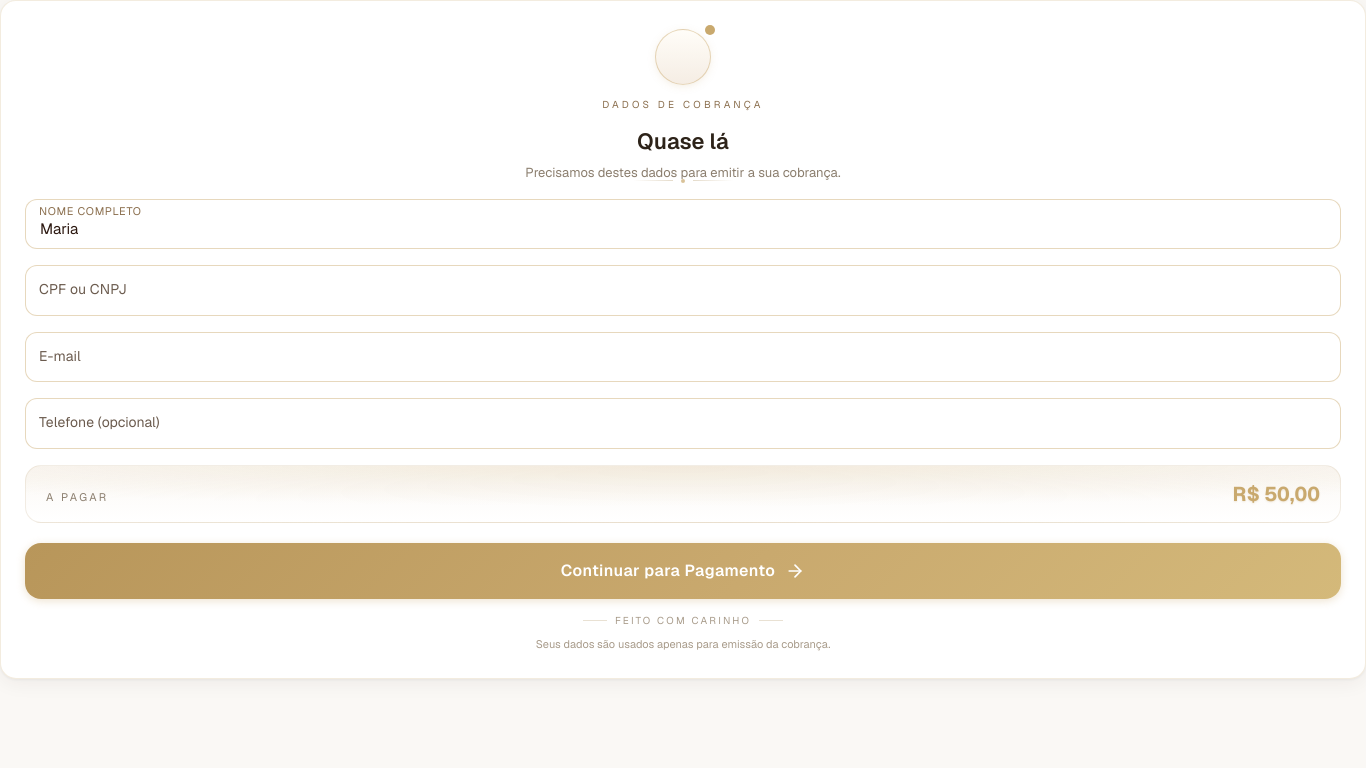
it: PublicBillingForm › shows validation errors for invalid CPF on submit
Type "11111111111" into the field labelled "CPF ou CNPJ" at coordinates (683, 290), box [25,265,1341,316]
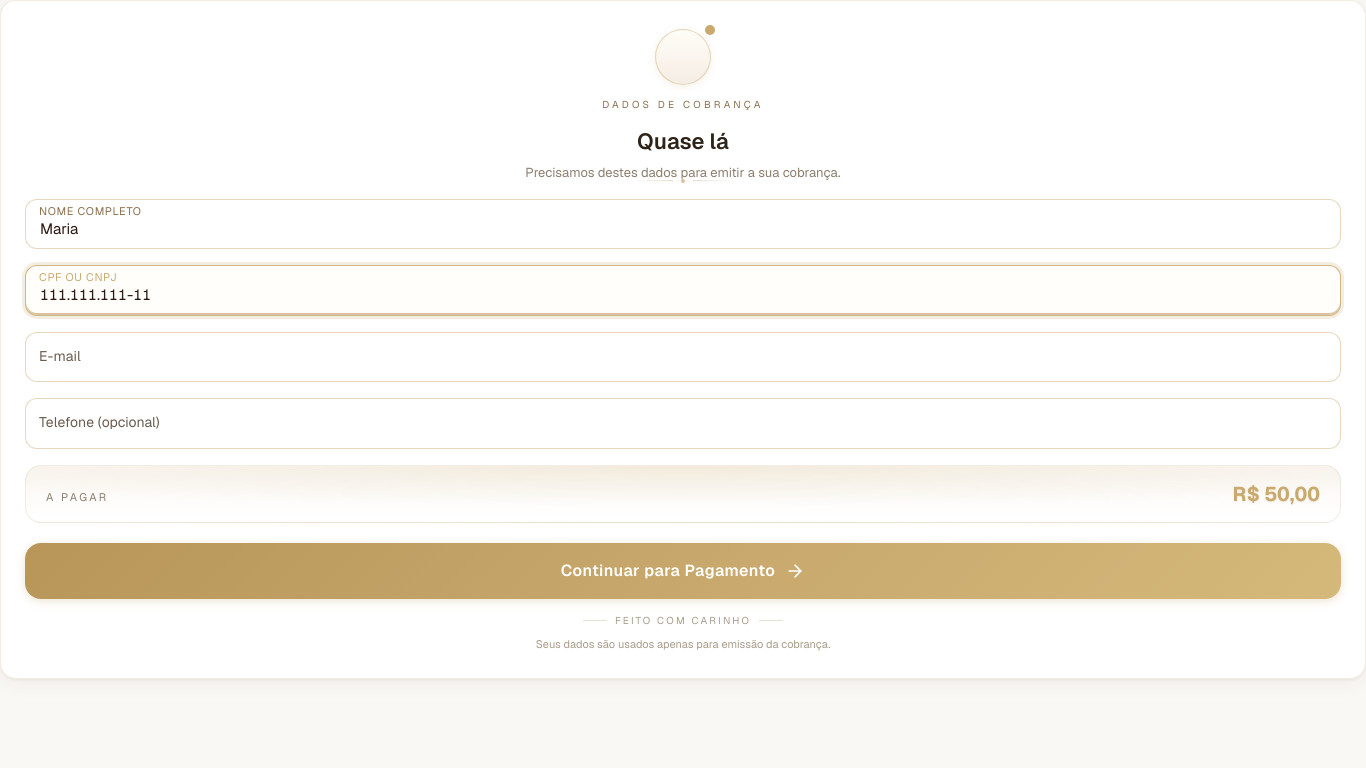
Type "maria@example.com" into the field labelled "E-mail" at coordinates (683, 357), box [25,332,1341,382]
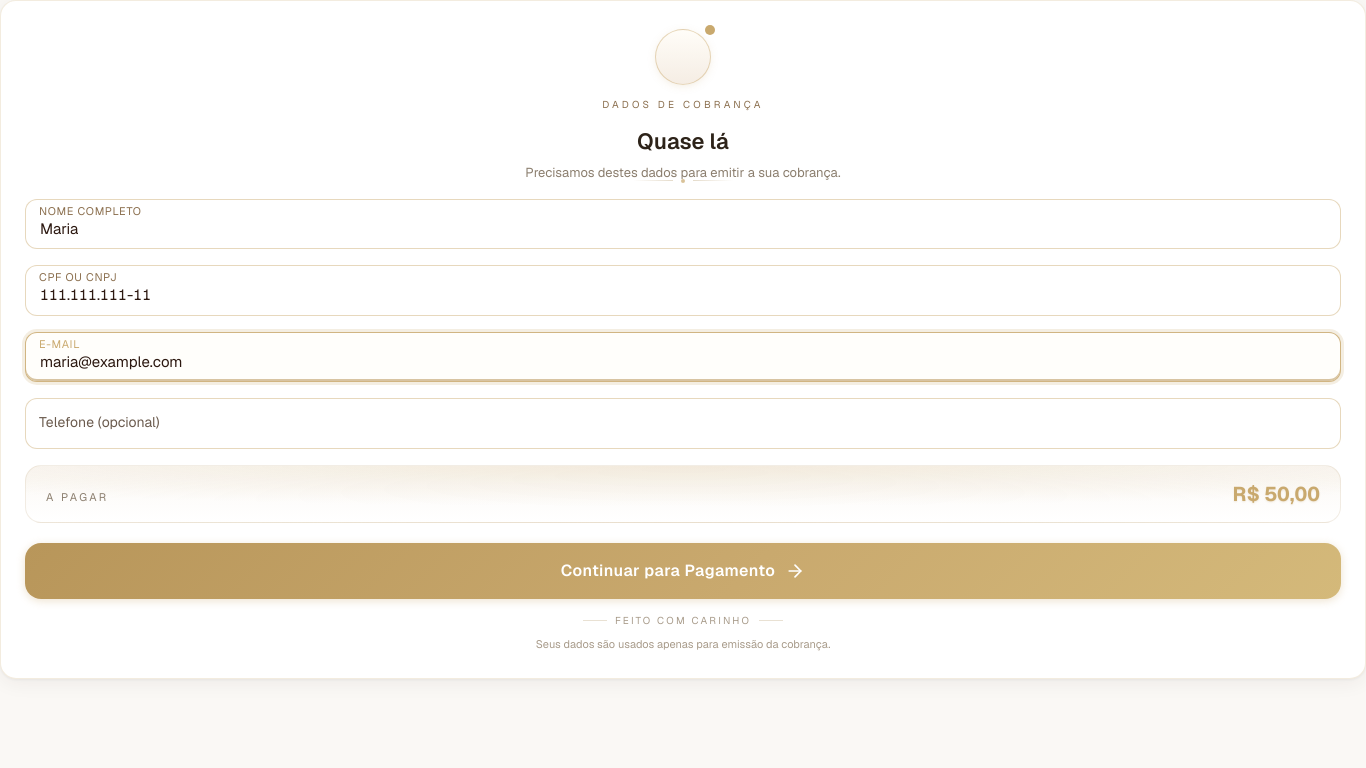
Click the button "Continuar para Pagamento" at coordinates (683, 571), box [25,543,1341,599]
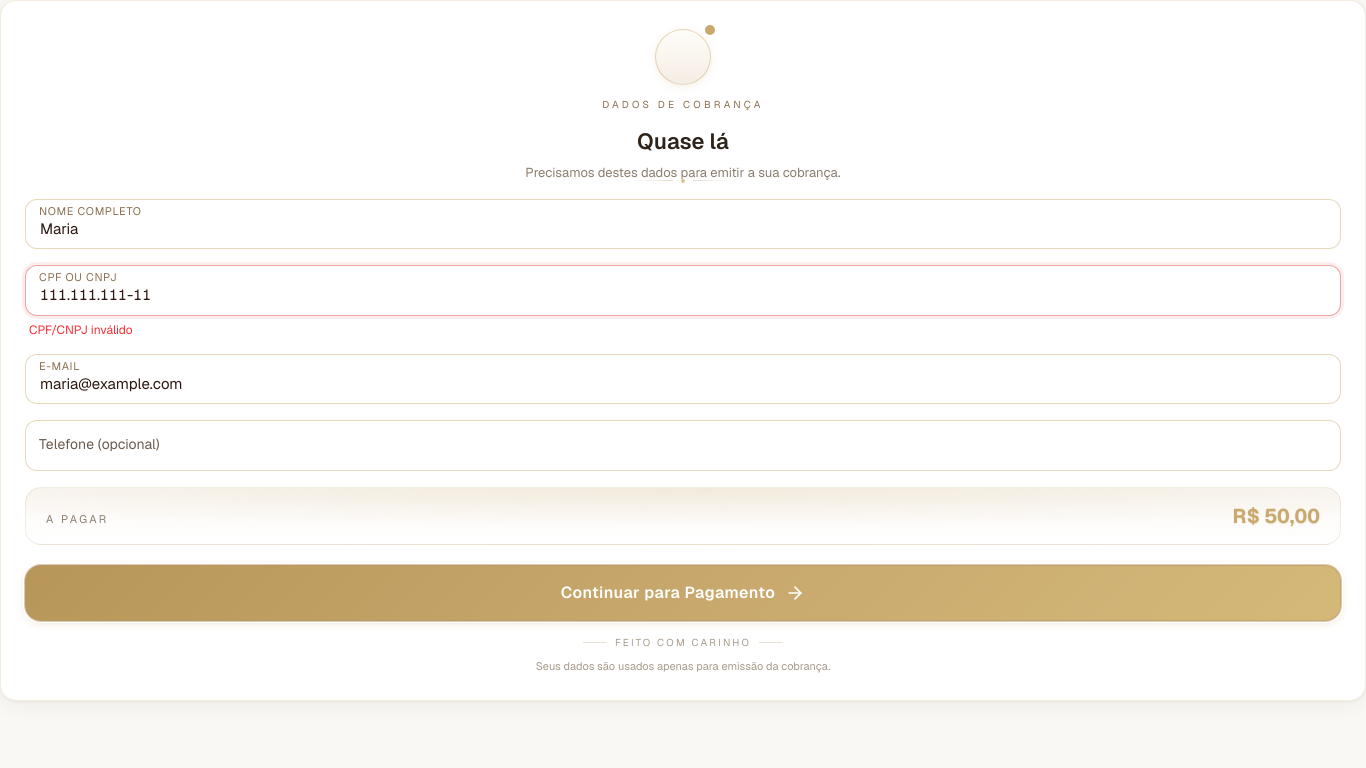
Expected: the text "CPF/CNPJ inválido" is shown, [29,322,133,338]
